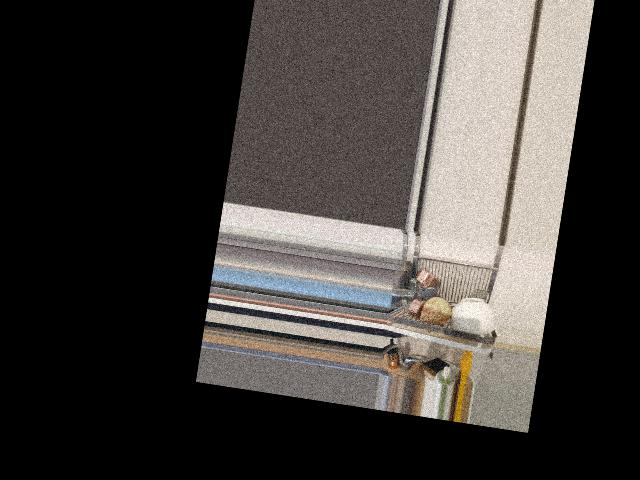onion: (420, 293, 453, 330)
